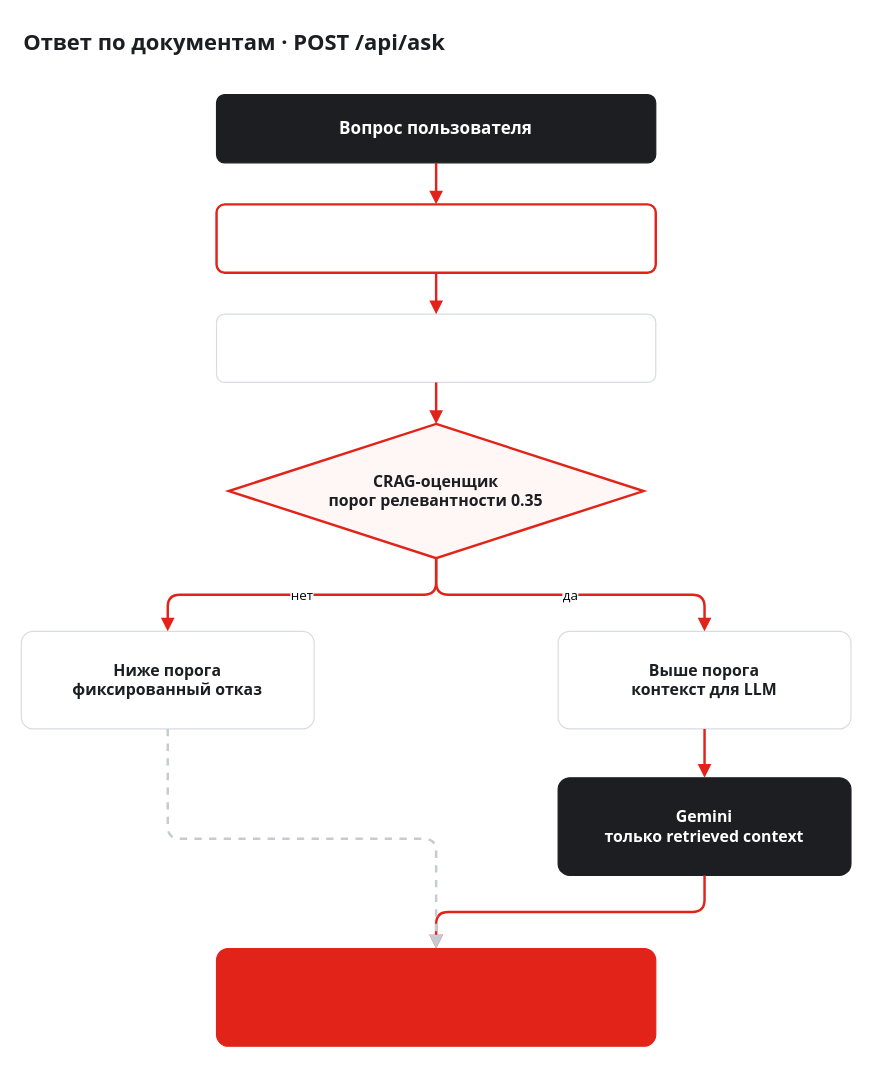
This 872x1068 diagram has some shape labels left out. The shapes that lost their labels are listed below. From the top down, each one's centre as x and y in pixels, then its label:
the point at 435,238: Эмбеддинг вопроса · BGE-M3
the point at 435,347: Chroma similarity search · top_k = 5
the point at 435,996: Ответ + источники файл · страница · цитата в PDF
